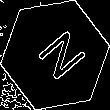N_SW: (25, 23, 85, 87)
